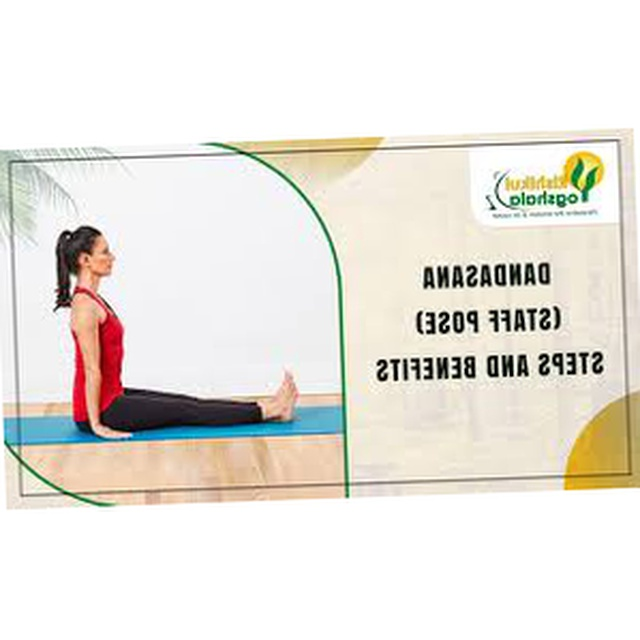Staff_Pose: (52, 224, 299, 443)
